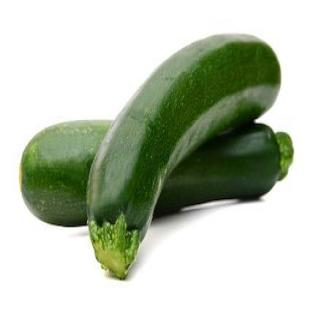Zucchini: (87, 35, 280, 278), (155, 124, 292, 217), (20, 120, 111, 225)
